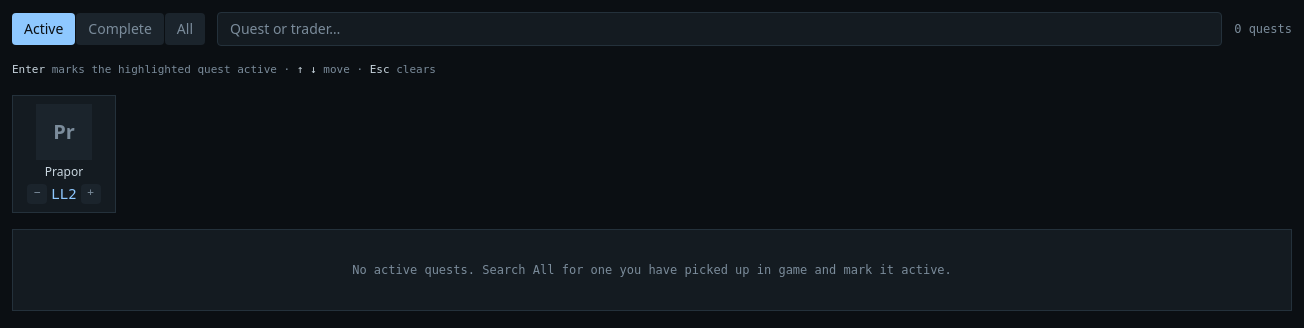
Test: marking a quest active from the keyboard › says so when nothing matches, and keeps what was typed
Click the dropdown at (720, 29), box [217,12,1222,46]
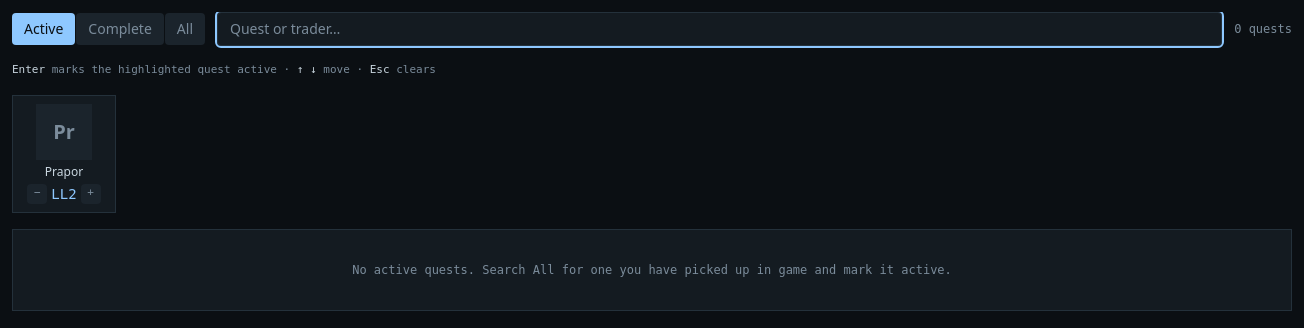
Type keys "nothing-like-this{Enter}"
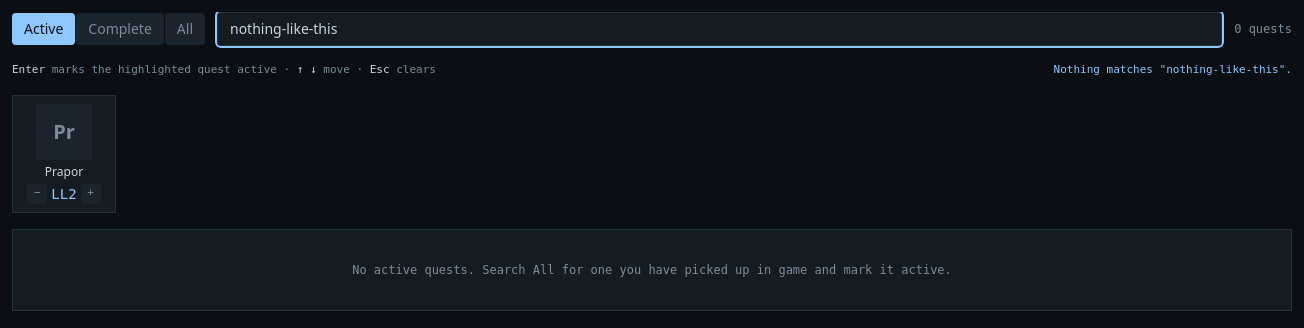
Now the text "Nothing matches \"nothing-like-this\"." is shown, box [1054,62,1292,78]
Now the dropdown holds "nothing-like-this", box [217,12,1222,46]
